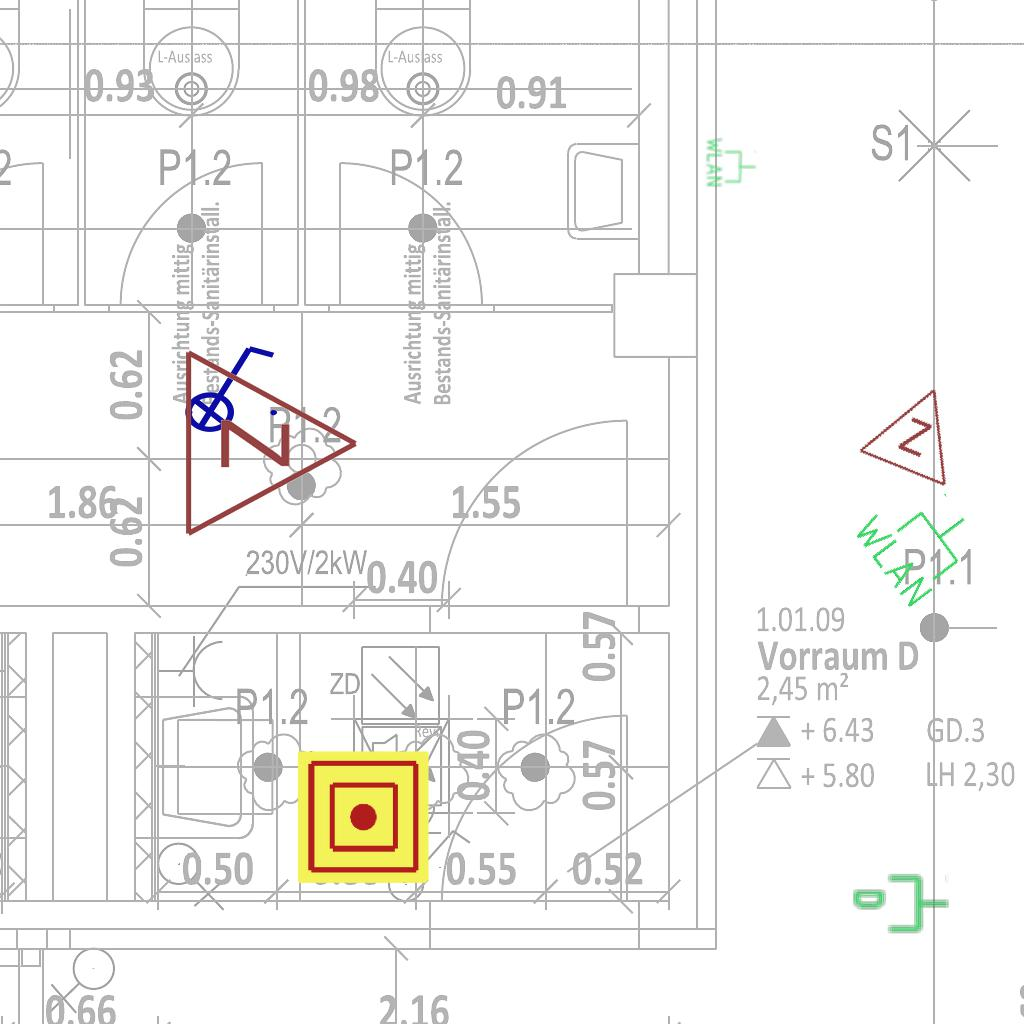Ausschalter_beleuchtet: (171, 338, 283, 434)
Datenanschluss_einfach: (851, 871, 951, 940)
NAM-Nichtautomatischer_Melder: (297, 751, 429, 883)
WLAN: (845, 467, 993, 614), (705, 136, 757, 188)
Zimmersignalleuchte: (171, 343, 371, 539), (852, 364, 982, 494)
